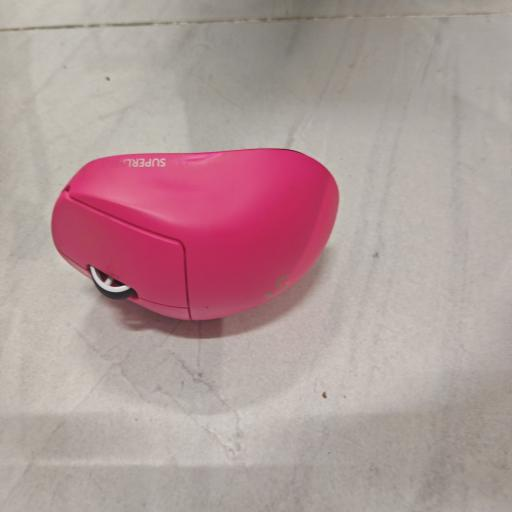mouse: (52, 149, 338, 320)
